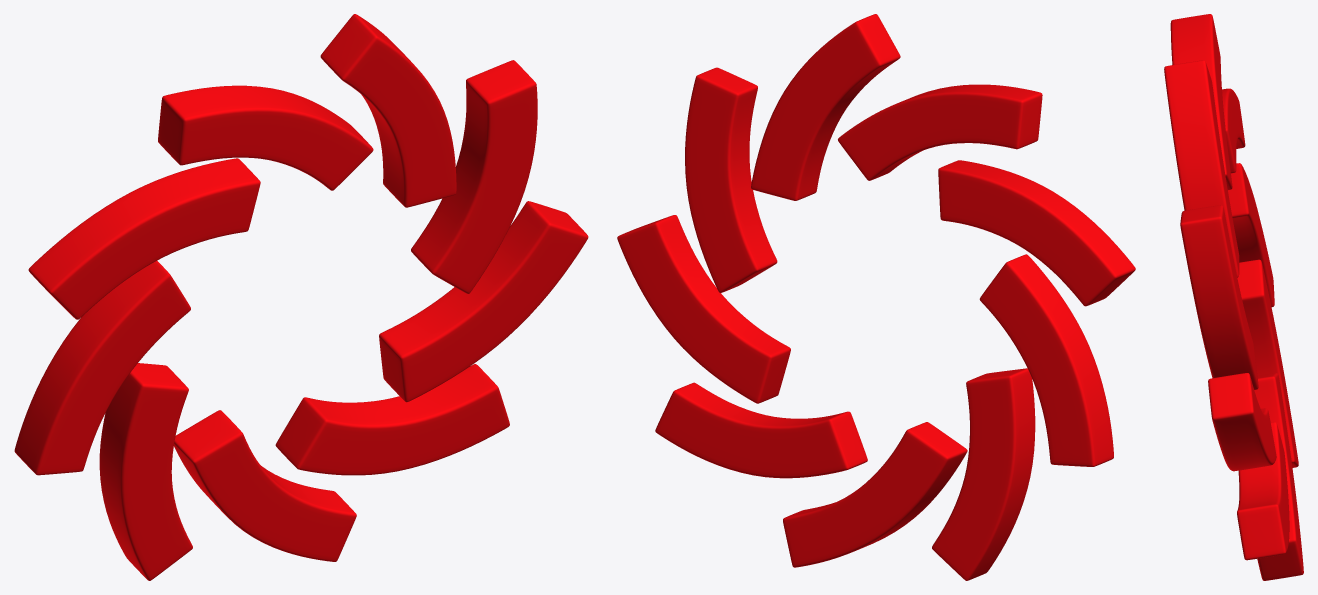
File: portal-new.glb
3 views of the same model, side by side, from view 1: azimuth 30°, elevation 25°; view 2: azimuth 150°, elevation 25°; view 3: azimuth 270°, elevation 25° (orthographic). The views are drawn at different scales.
Visible parts, largest first — view 1: blade_logo; view 2: blade_logo; view 3: blade_logo.
Part boxes in pixels (x1,y1,x2,y2): blade_logo: (14,14,588,580); blade_logo: (617,14,1135,580); blade_logo: (1164,14,1303,580).
Size of the model in its own units: 2.67 by 2.69 by 0.662.
